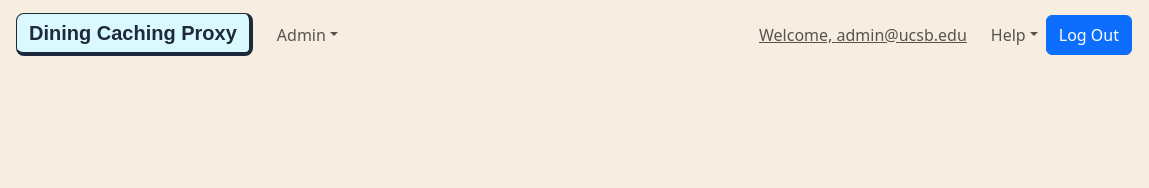
it: AppNavbar tests › renders Admin menu for admins
The width and height of the screenshot is (1149, 188).
Click the button "Admin" at (307, 34), box top-left (269, 14), bottom-right (346, 54)
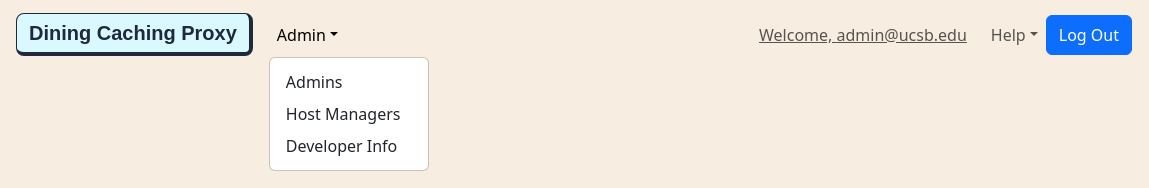
expect the link "Admins" is shown: met, box top-left (286, 70), bottom-right (342, 92)
expect the link "Host Managers" is shown: met, box top-left (286, 102), bottom-right (400, 124)
expect the link "Developer Info" is shown: met, box top-left (286, 134), bottom-right (397, 156)
